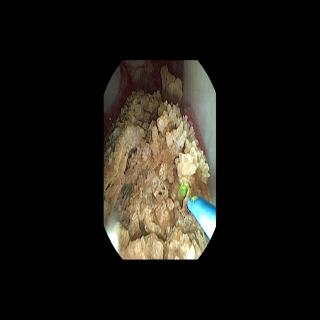fiber: (189, 196, 215, 237)
laser: (181, 185, 187, 195), (191, 196, 196, 202)
stone: (105, 67, 210, 257)
